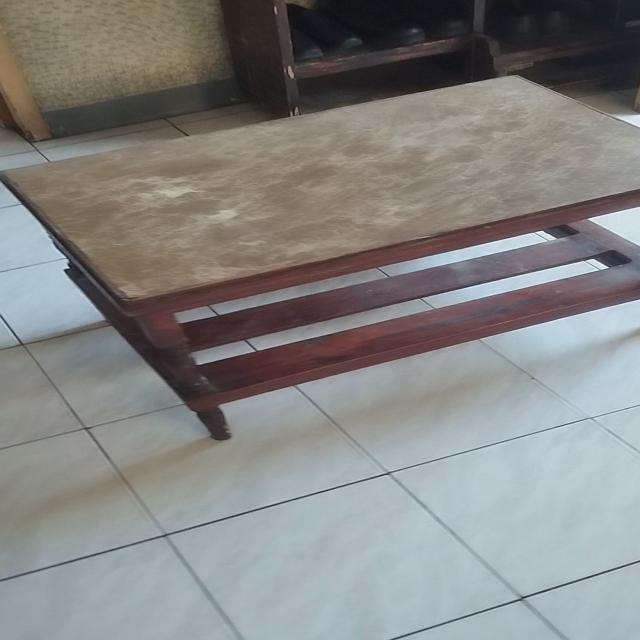table: (0, 74, 640, 447)
